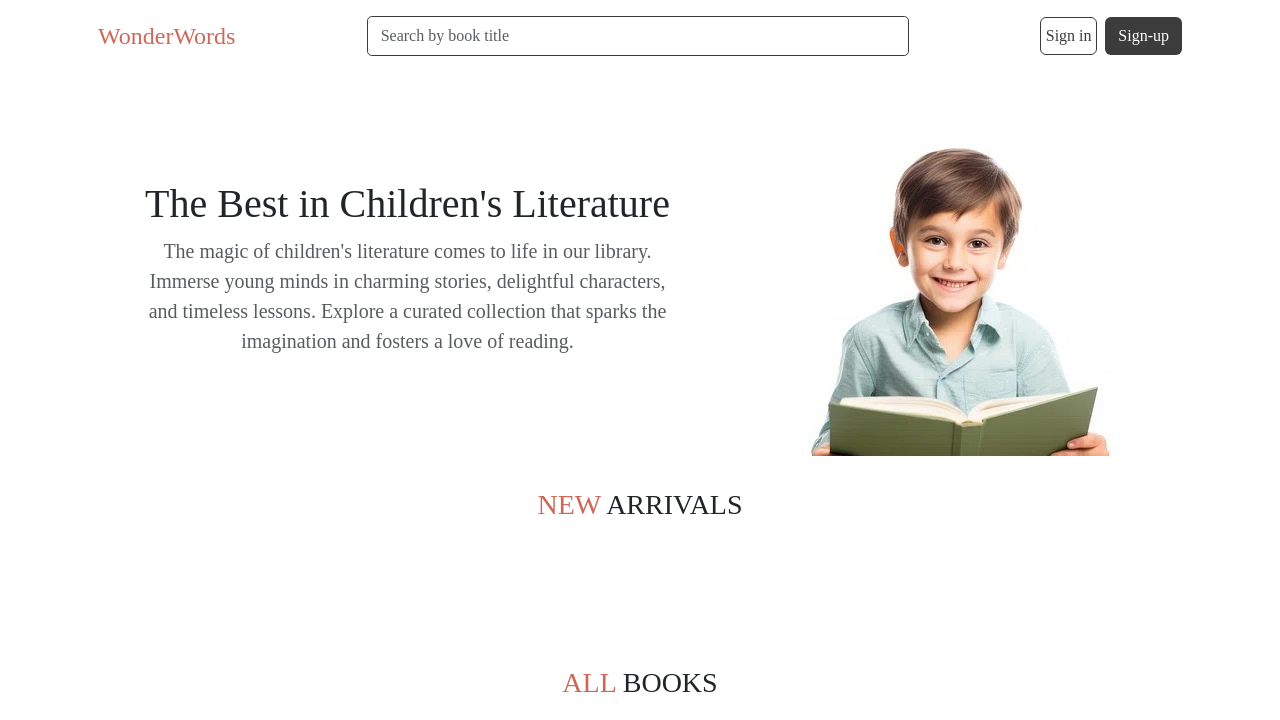
Test: User Sign in › Negative cases › should show error when password is missing
Click the button with class "login". click: {"x": 1069, "y": 36}
box: [1040,17,1097,55]
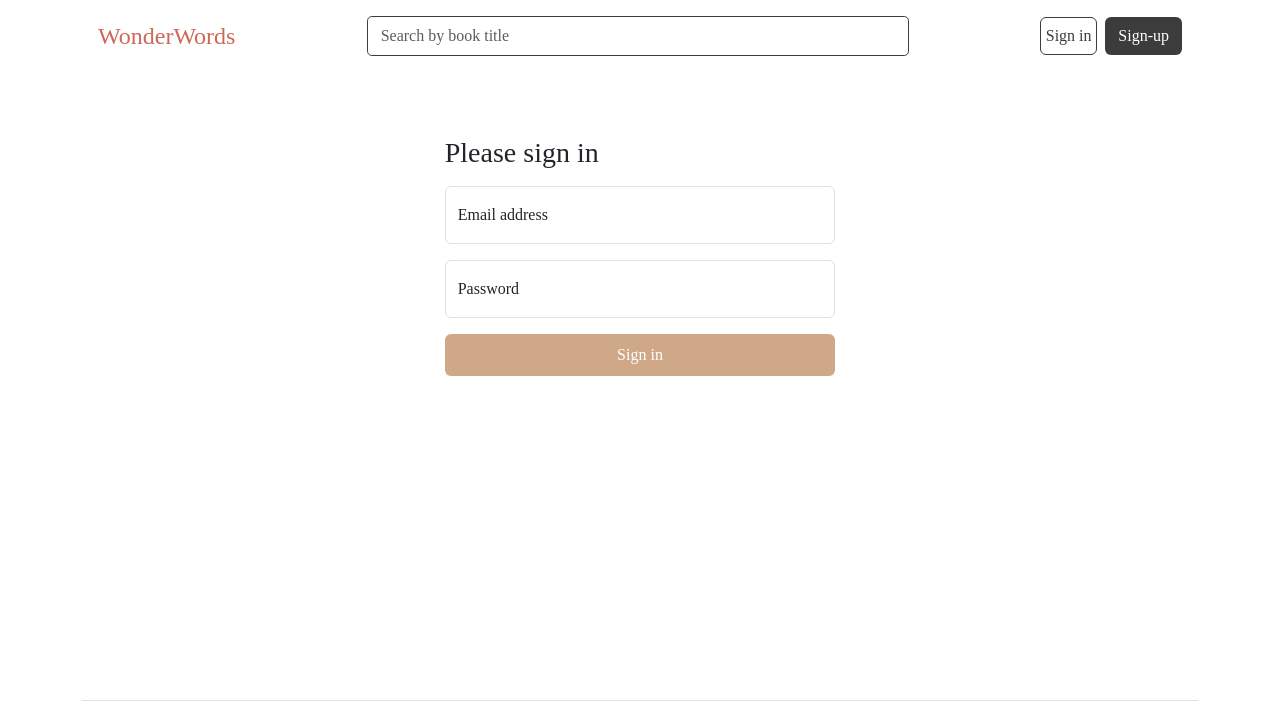
Type "alexia@aalto.com" into the field with test id "input-login-email". click: {"x": 641, "y": 215}
box: [445,186,836,244]
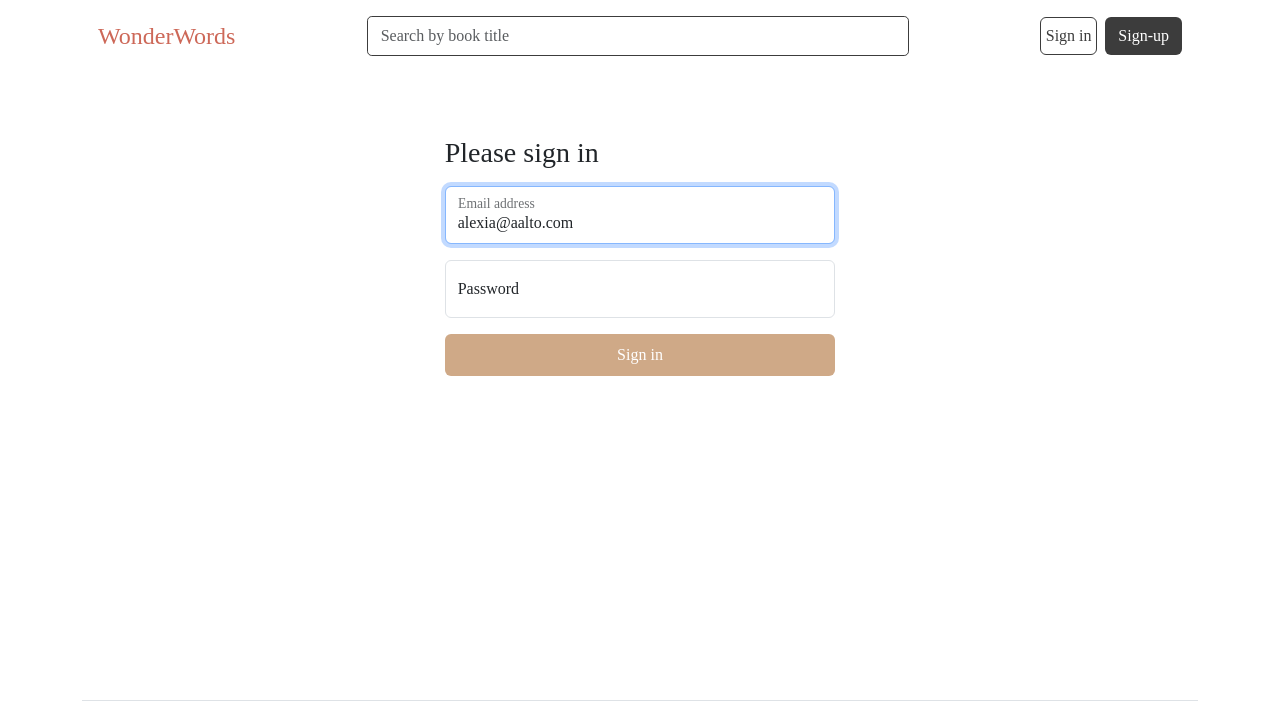
Click the button with test id "submit-login". click: {"x": 641, "y": 355}
box: [445,334,836,376]
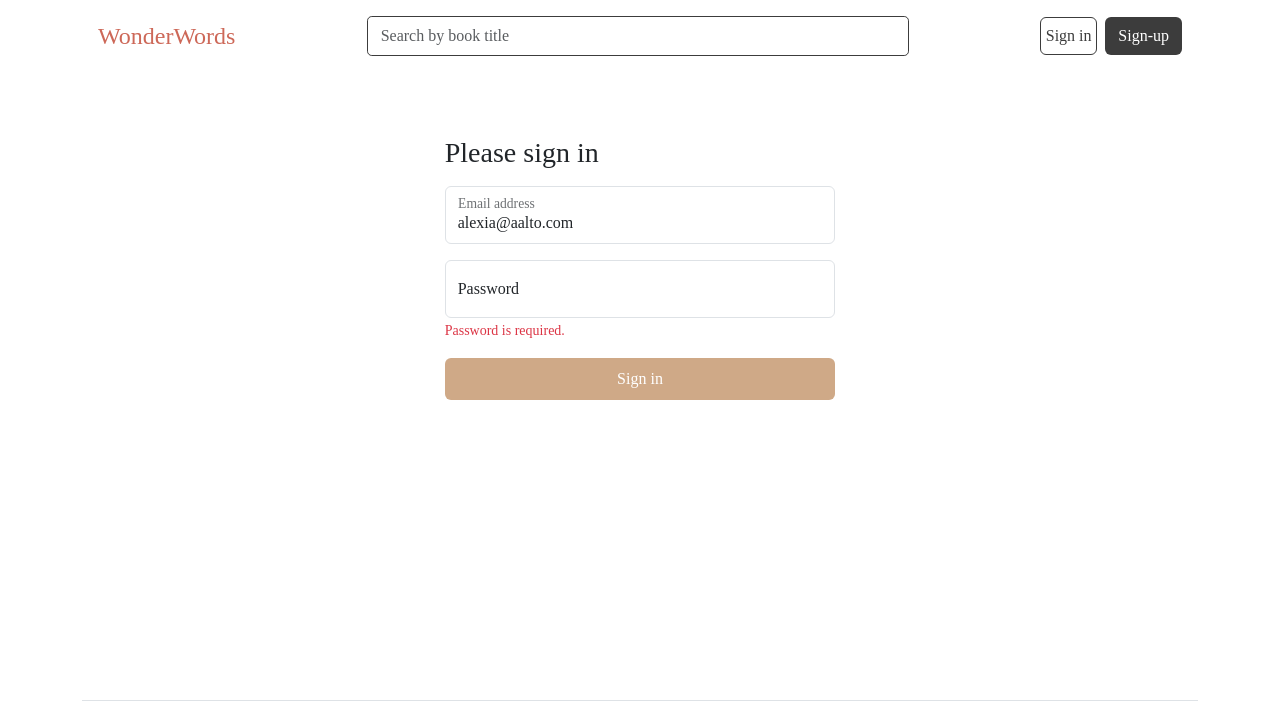
Now the text "Password is required." is shown, box [445,323,565,338]
